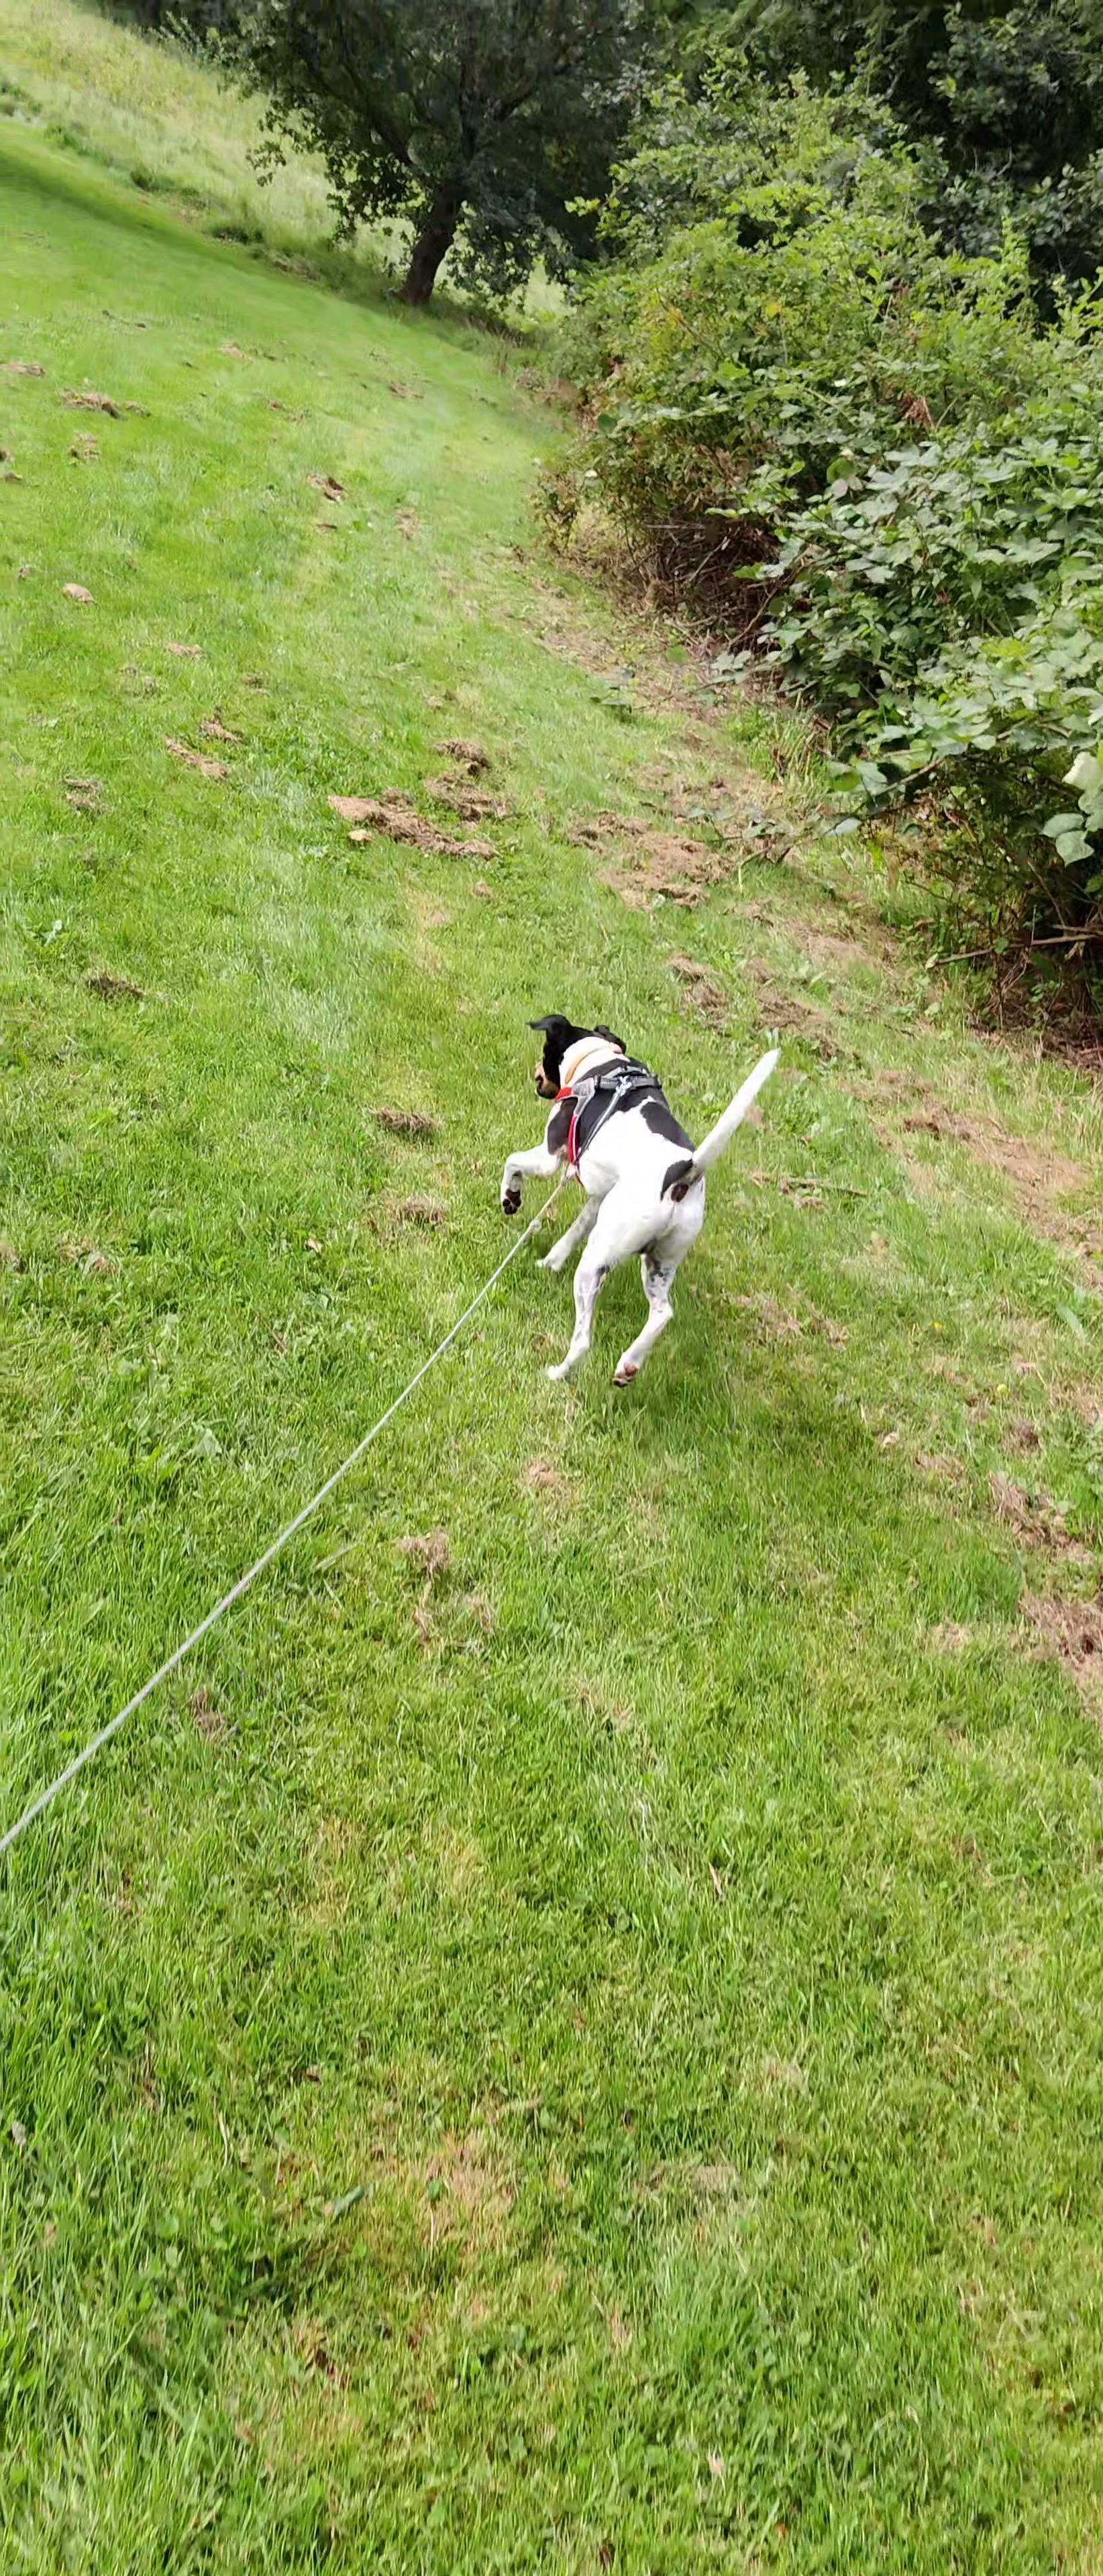Dog: (495, 1010, 792, 1395)
